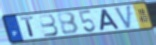5: (78, 9, 97, 34)
A: (99, 8, 121, 31)
B: (55, 11, 81, 36), (37, 13, 60, 38)
T: (19, 16, 36, 39)
V: (113, 4, 132, 30)
